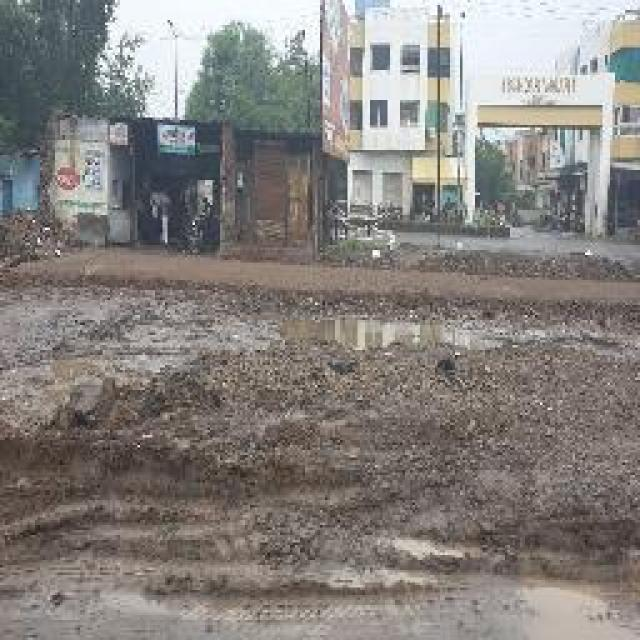puddle: (287, 316, 511, 356)
